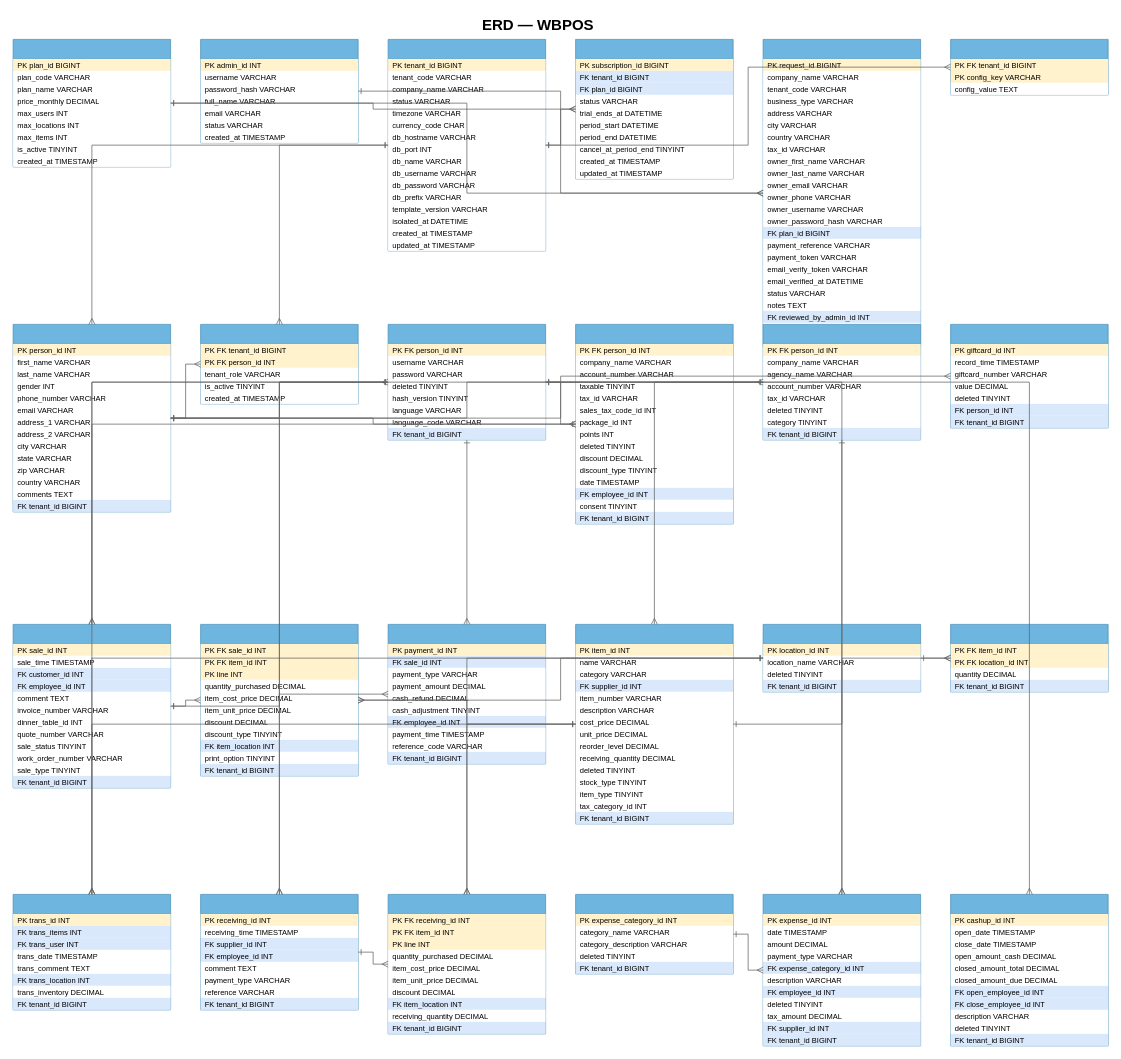
Some shapes in this 1121 by 1059 pixel diagram are drawn without their labels. Each missing label, with the box of its shape:
wbpos_cash_up: (950, 894, 1108, 1046)
wbpos_customers: (575, 324, 733, 524)
wbpos_employees: (387, 324, 546, 440)
wbpos_expense_categories: (575, 894, 733, 974)
wbpos_expenses: (762, 894, 921, 1046)
wbpos_giftcards: (950, 324, 1108, 428)
wbpos_inventory: (12, 894, 171, 1010)
wbpos_item_quantities: (950, 624, 1108, 692)
wbpos_items: (575, 624, 733, 824)
wbpos_people: (12, 324, 171, 512)
wbpos_plans: (12, 39, 171, 167)
wbpos_platform_admins: (200, 39, 358, 143)
wbpos_receivings: (200, 894, 358, 1010)
wbpos_receivings_items: (387, 894, 546, 1034)
wbpos_sales: (12, 624, 171, 788)
wbpos_sales_items: (200, 624, 358, 776)
wbpos_sales_payments: (387, 624, 546, 764)
wbpos_stock_locations: (762, 624, 921, 692)
wbpos_subscription_requests: (762, 39, 921, 347)
wbpos_subscriptions: (575, 39, 733, 179)
wbpos_suppliers: (762, 324, 921, 440)
wbpos_tenant_config: (950, 39, 1108, 95)
wbpos_tenant_users: (200, 324, 358, 404)
wbpos_tenants: (387, 39, 546, 251)
